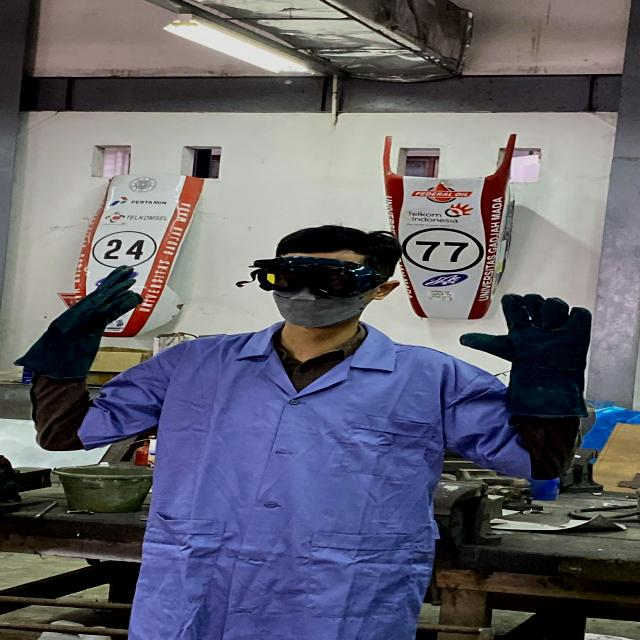face_mask: (239, 245, 376, 328)
glasses: (225, 249, 392, 301)
hand_glove: (450, 286, 599, 384), (34, 257, 146, 344)
head_nohelmet: (272, 220, 403, 264)
person: (22, 215, 596, 640)
